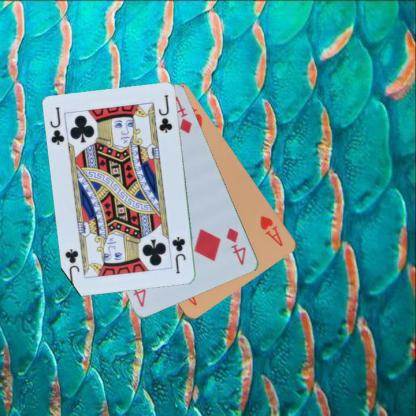4d: (223, 225, 248, 267)
Ah: (257, 212, 285, 248)
Jc: (48, 104, 66, 146), (169, 234, 187, 275)
